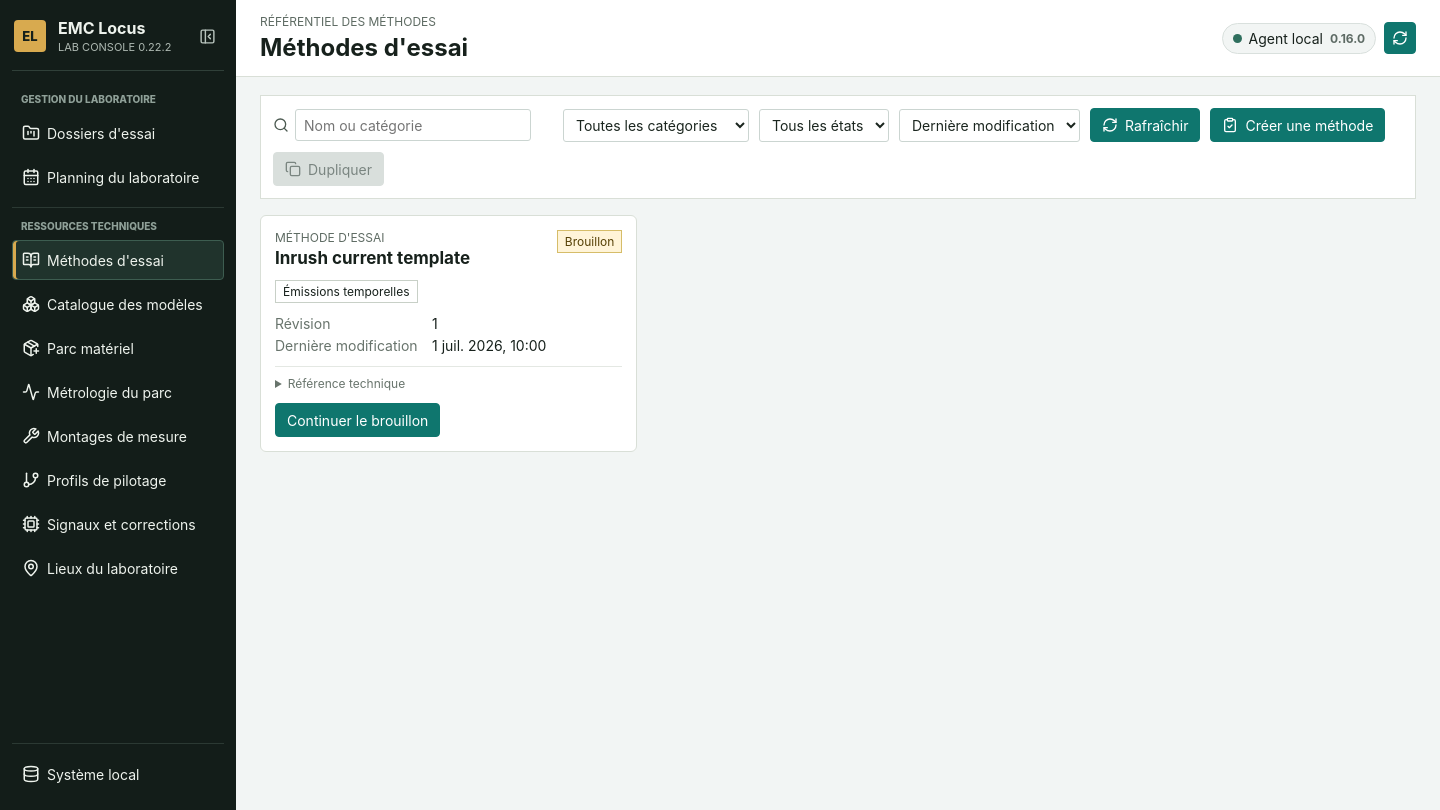
it: LAB CONSOLE › refreshes laboratory planning after concurrent historical location identification
The width and height of the screenshot is (1440, 810).
Click the button "Planning du laboratoire".
click(118, 177)  # box 12,157 -> 224,197
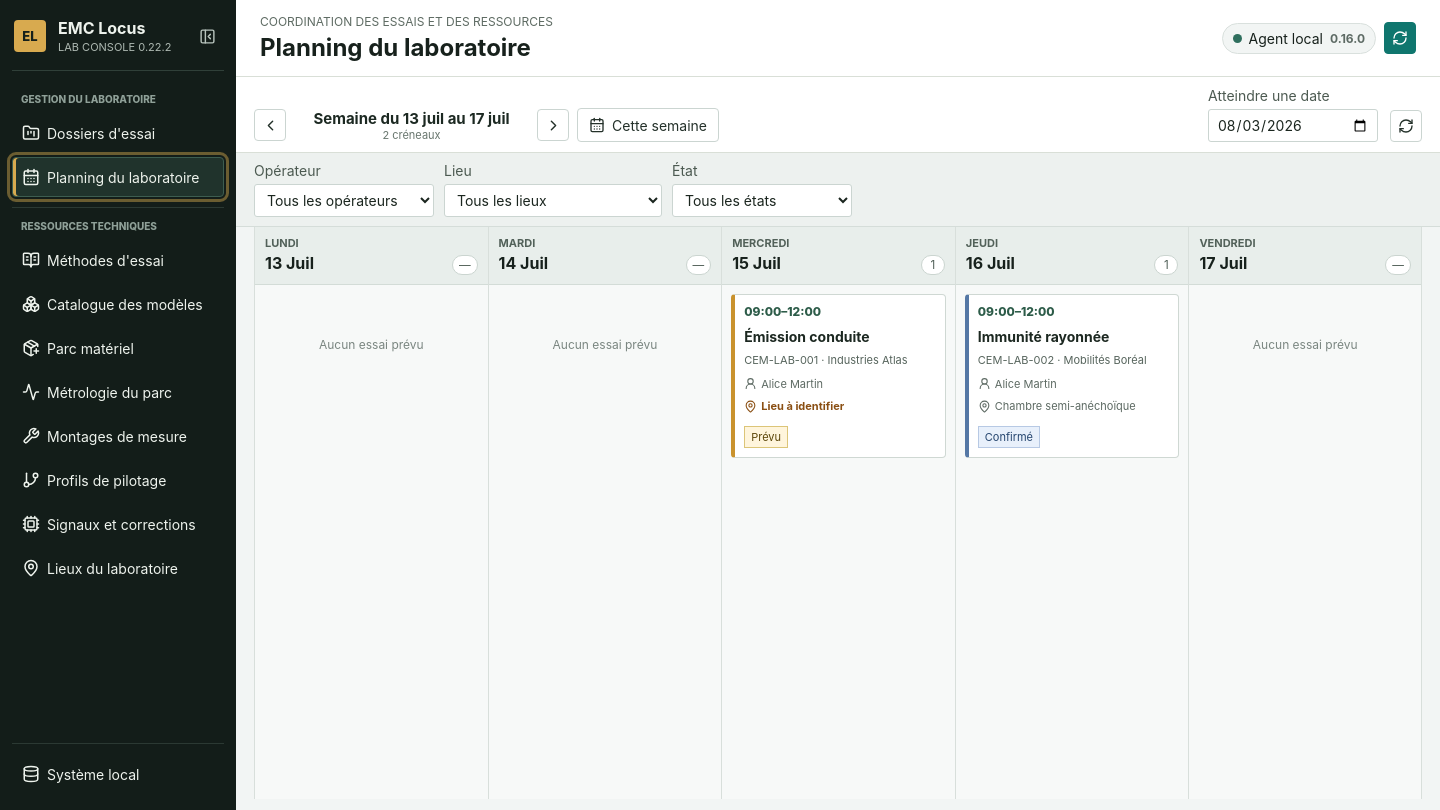
Click the button with aria-label "Ouvrir Émission conduite, dossier CEM-LAB-001".
click(838, 376)  # box 731,294 -> 946,458
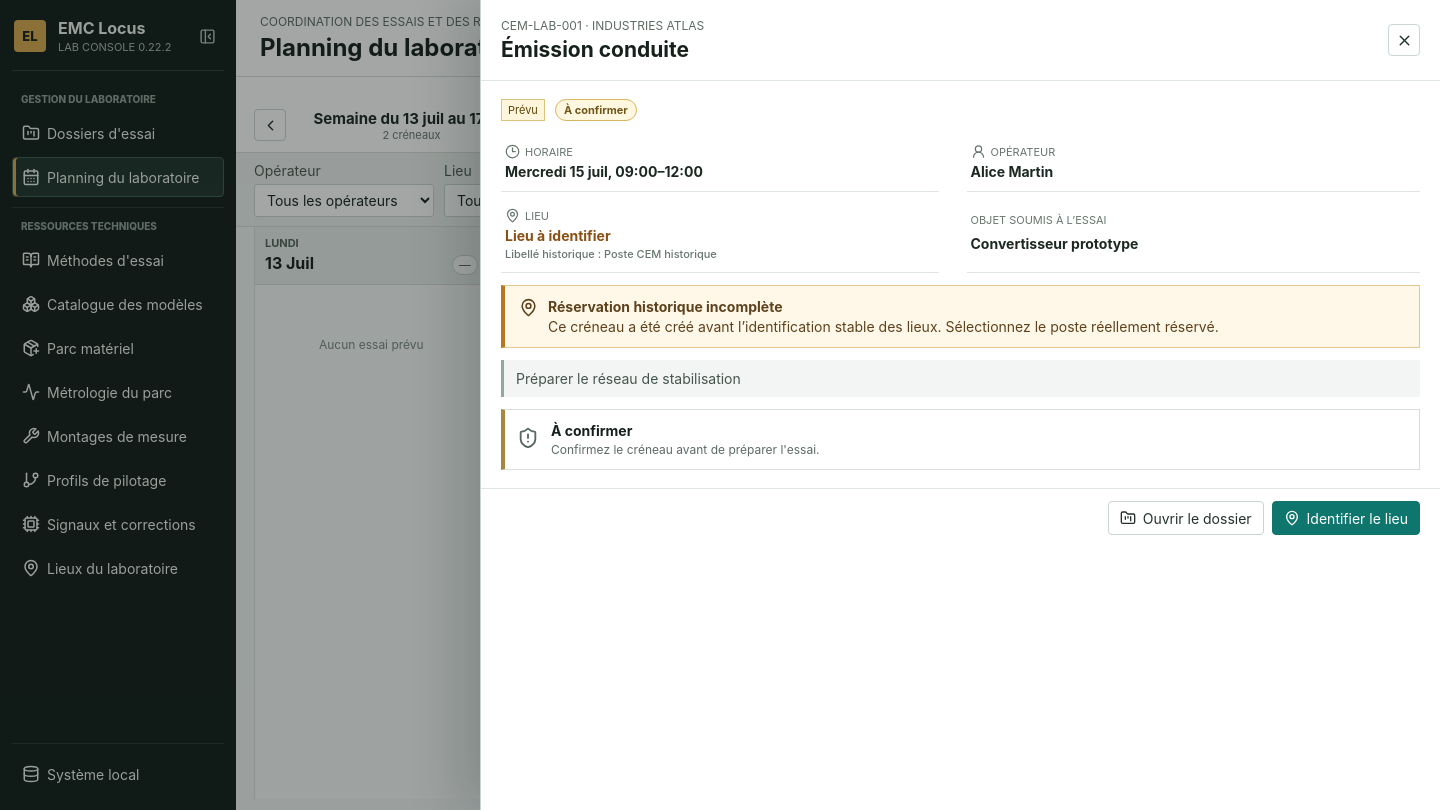
Click the button "Identifier le lieu".
click(1346, 518)  # box 1272,501 -> 1420,535
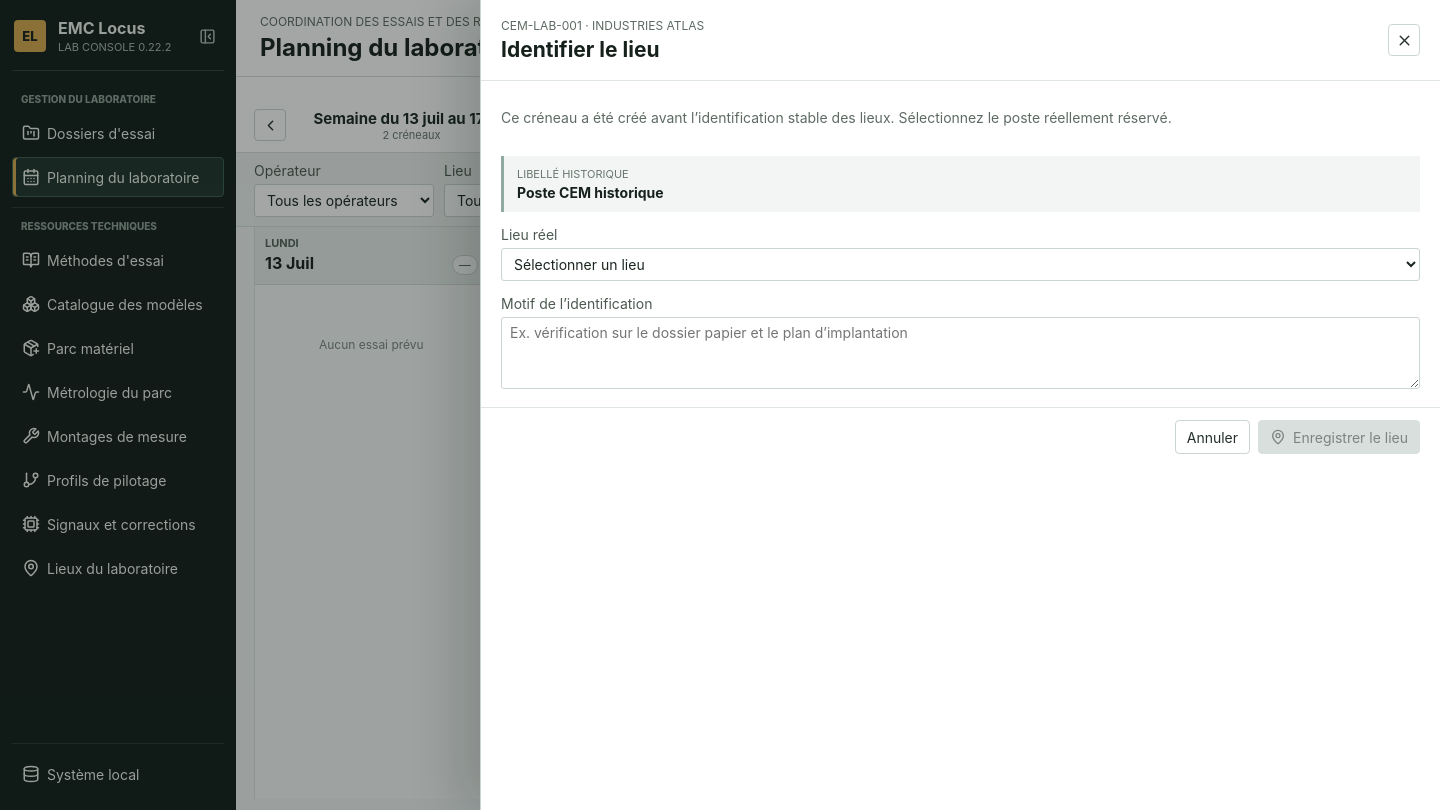
Select "Labo CEM 1" in the dropdown labelled "Lieu réel" at (960, 264), box 501,248 -> 1420,281
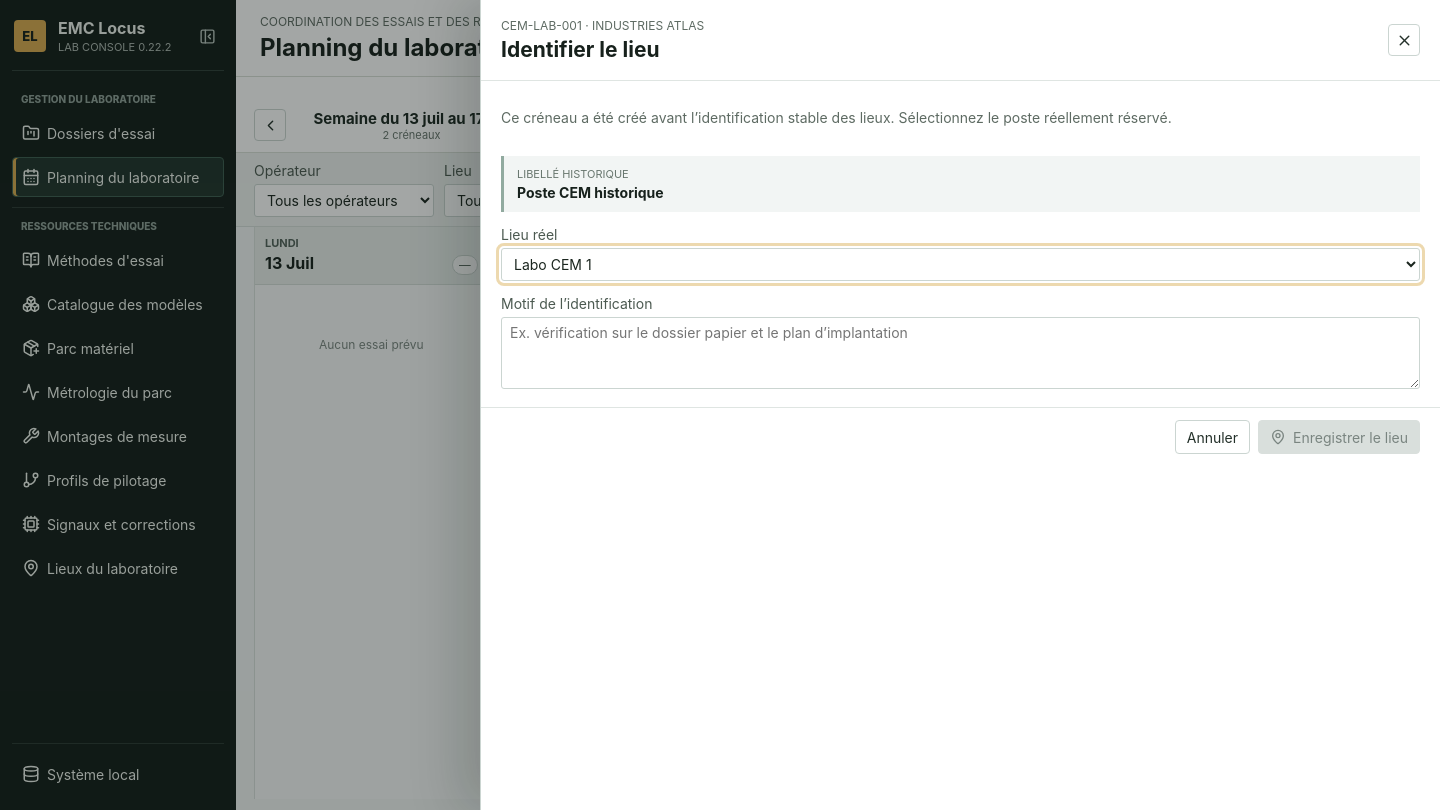
Type "Contrôle concurrent" into the text box labelled "Motif de l’identification".
click(960, 353); type("Contrôle concurrent")  # box 501,317 -> 1420,389
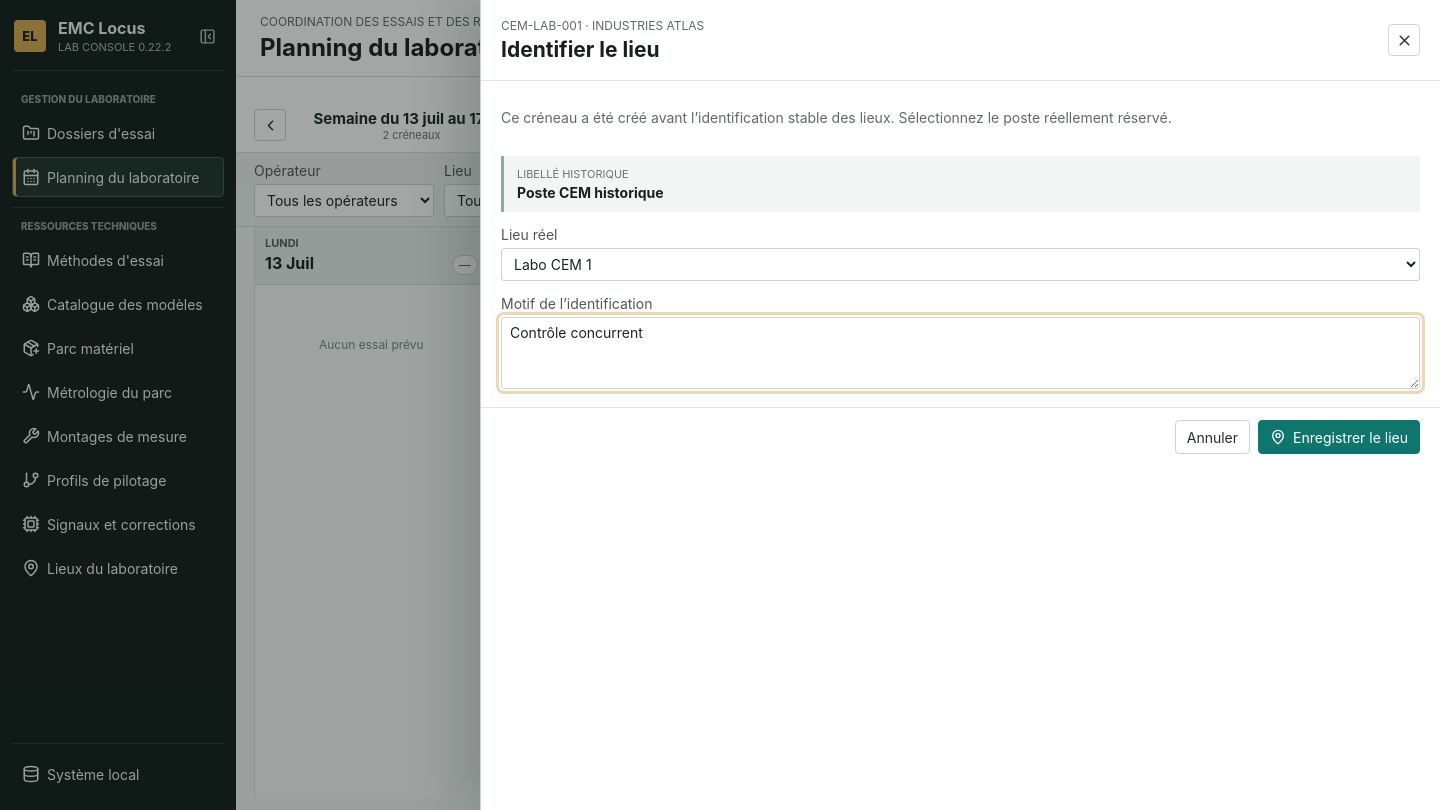
Click the button "Enregistrer le lieu".
click(1339, 437)  # box 1258,420 -> 1420,454
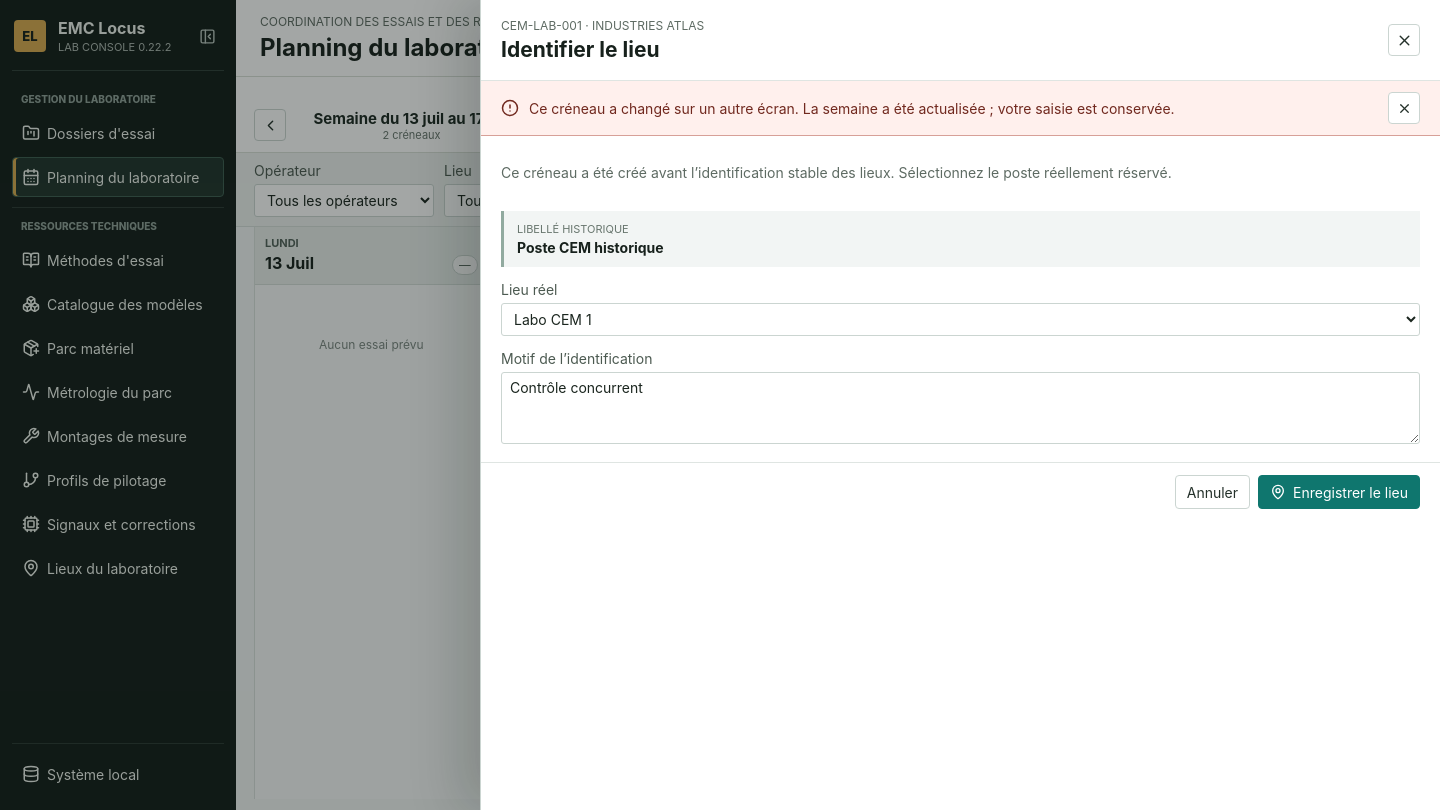
Now the message shows "Ce créneau a changé sur un autre écran", box 529,100 -> 1175,116
